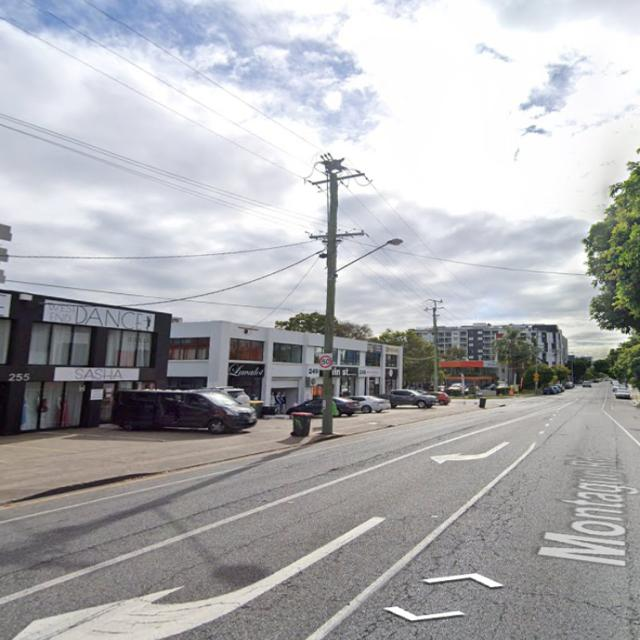HV-switch: (318, 152, 348, 173)
HV-transmission: (307, 170, 373, 193), (423, 299, 445, 312)
crossarm: (311, 173, 365, 186), (309, 232, 364, 239), (424, 307, 444, 311), (427, 299, 443, 303)
streetlight: (335, 238, 404, 272)
timber-pole: (321, 172, 338, 435), (433, 301, 438, 392)
